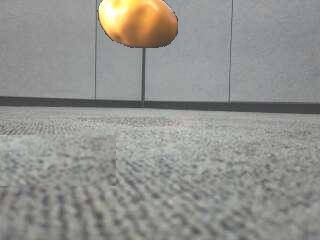Potato: (97, 0, 180, 50)
